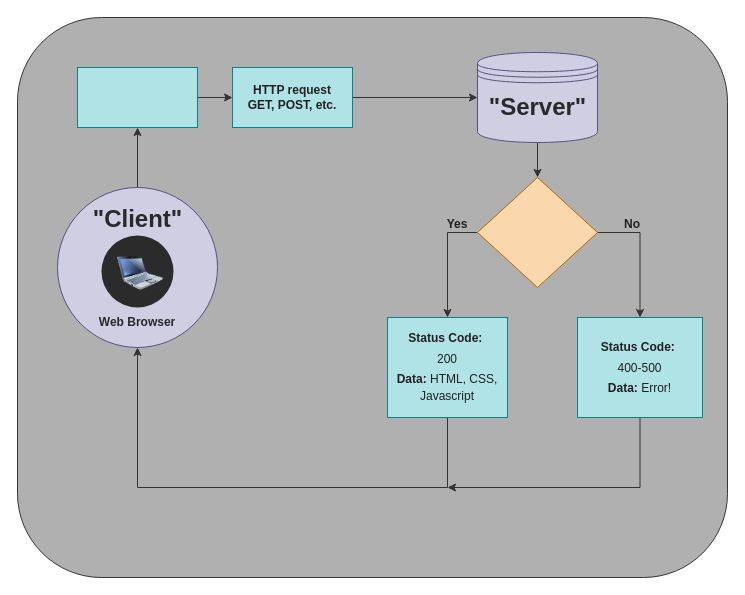
Image size: 745x595. Some labels were removed from this diagram. The centre of each missing label's shape, as x and y in pixels:
Type in URL in address bar: the point at 137,97
Valid Request?: the point at 537,232
